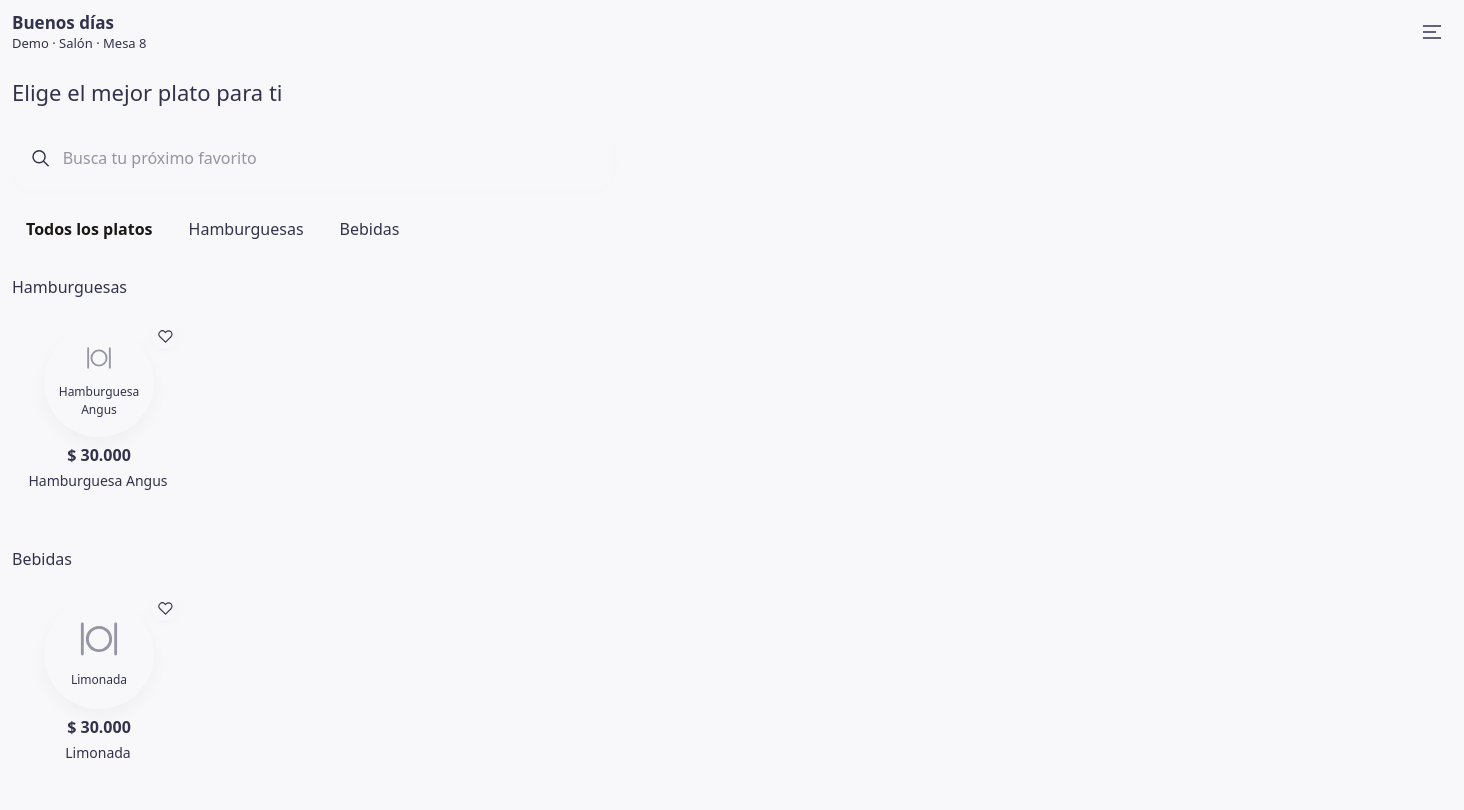
Test: keeps category selection scoped to its products and combines it with search
Click the button "Bebidas".
click(370, 229)  # box [326,207,414,251]
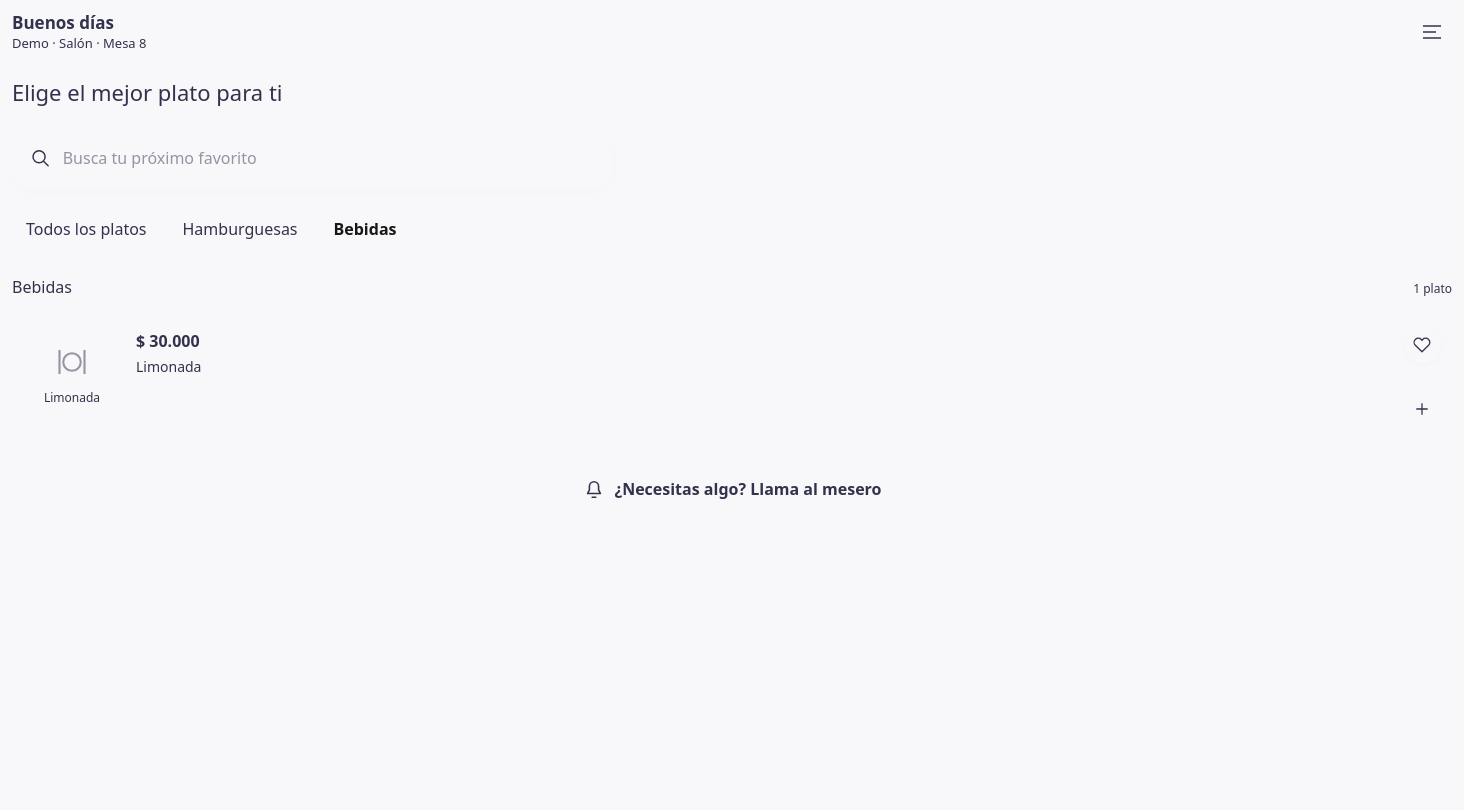
Expected: the heading "Limonada" is shown, [136,357,202,376]
Expected: the link "Hamburguesa Angus" is gone
Type "Angus" into the search field.
click(328, 158); type("Angus")  # box [63,130,594,186]
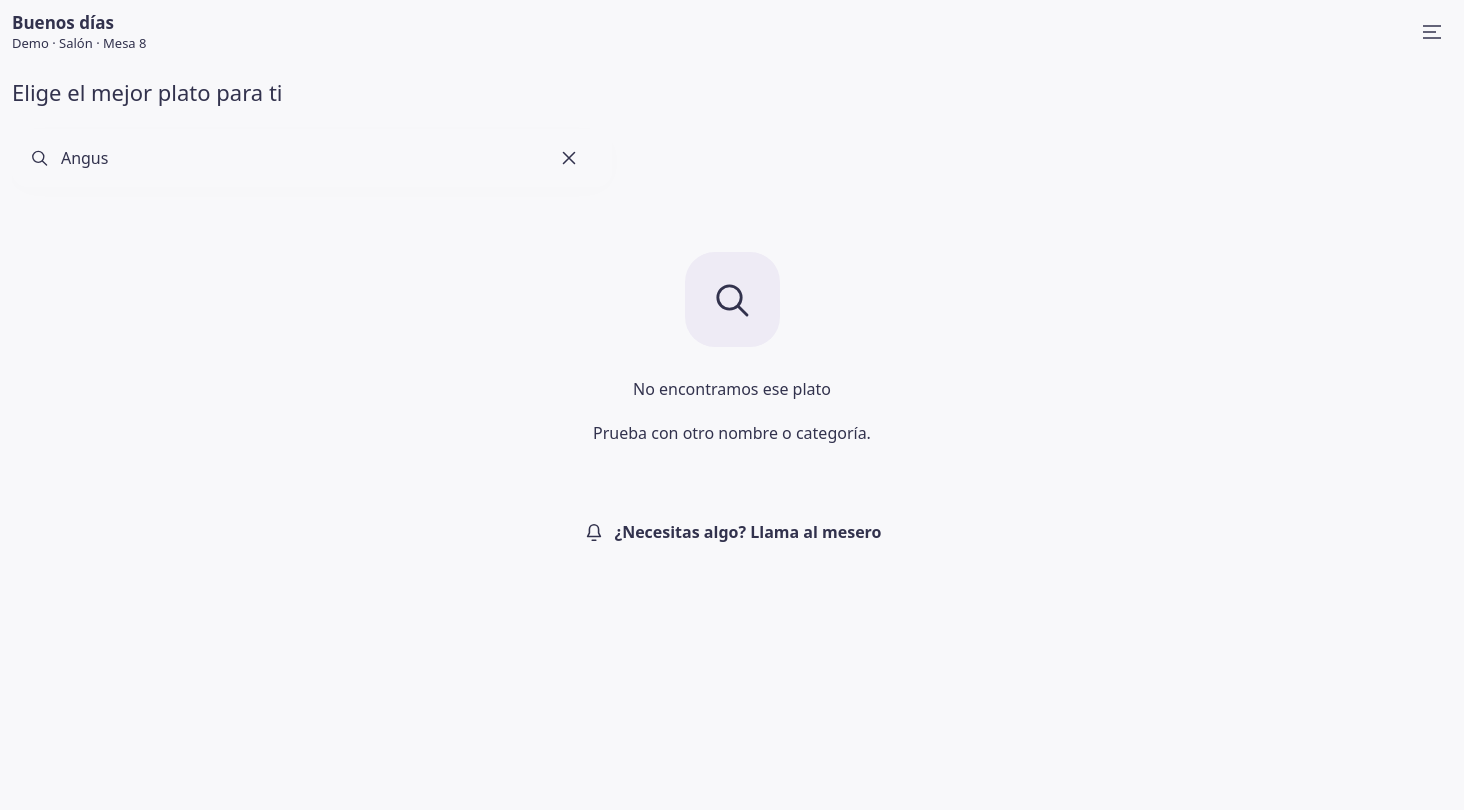
Expected: the heading "No encontramos ese plato" is shown, [633,377,831,401]
